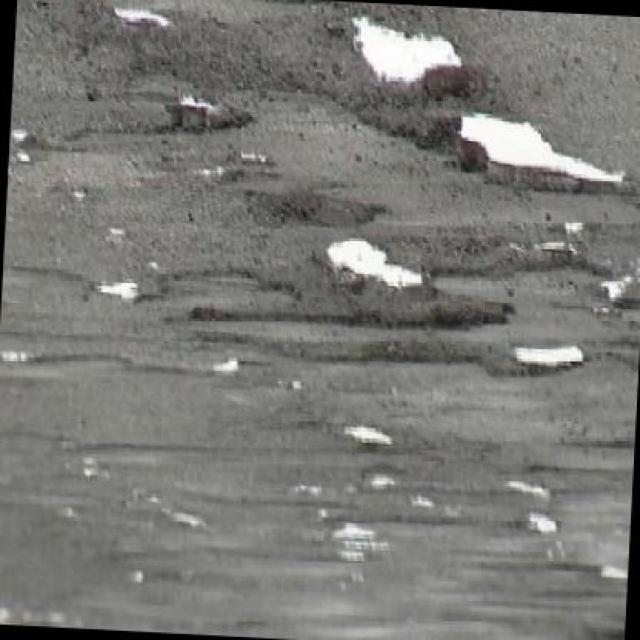pothole1: (401, 106, 634, 206), (344, 10, 476, 108), (319, 234, 427, 300), (482, 337, 589, 388), (158, 96, 262, 144), (361, 336, 482, 376), (421, 285, 513, 332)
